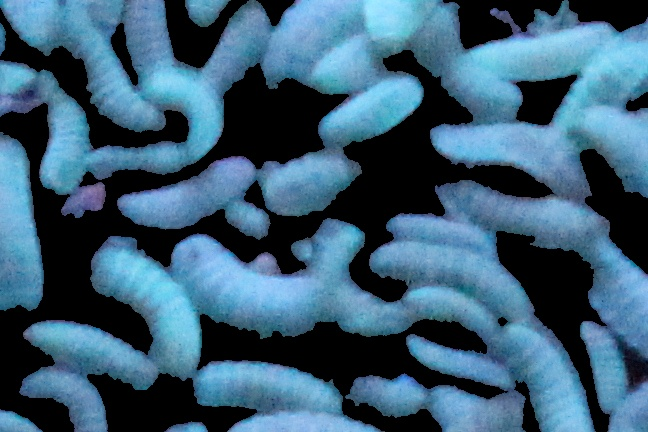larvae: (92, 243, 201, 376), (57, 1, 164, 131), (176, 234, 312, 336), (430, 119, 592, 197), (372, 244, 530, 315), (439, 179, 593, 248), (499, 320, 591, 432), (420, 17, 524, 116), (313, 222, 403, 336), (20, 318, 155, 390), (553, 24, 648, 124), (121, 156, 256, 226), (474, 22, 620, 84), (138, 64, 225, 155), (195, 361, 341, 415), (1, 131, 43, 310), (588, 236, 648, 358), (268, 1, 355, 82), (319, 76, 422, 144), (27, 91, 91, 193), (575, 107, 648, 195), (14, 368, 107, 432), (264, 158, 357, 217), (408, 336, 512, 388), (203, 2, 270, 79), (404, 287, 501, 336), (577, 321, 626, 410), (361, 1, 435, 59), (114, 1, 178, 67), (388, 210, 493, 248), (215, 408, 381, 432), (86, 137, 186, 176), (589, 293, 646, 359), (431, 380, 493, 432), (317, 37, 374, 91), (2, 1, 59, 53)
